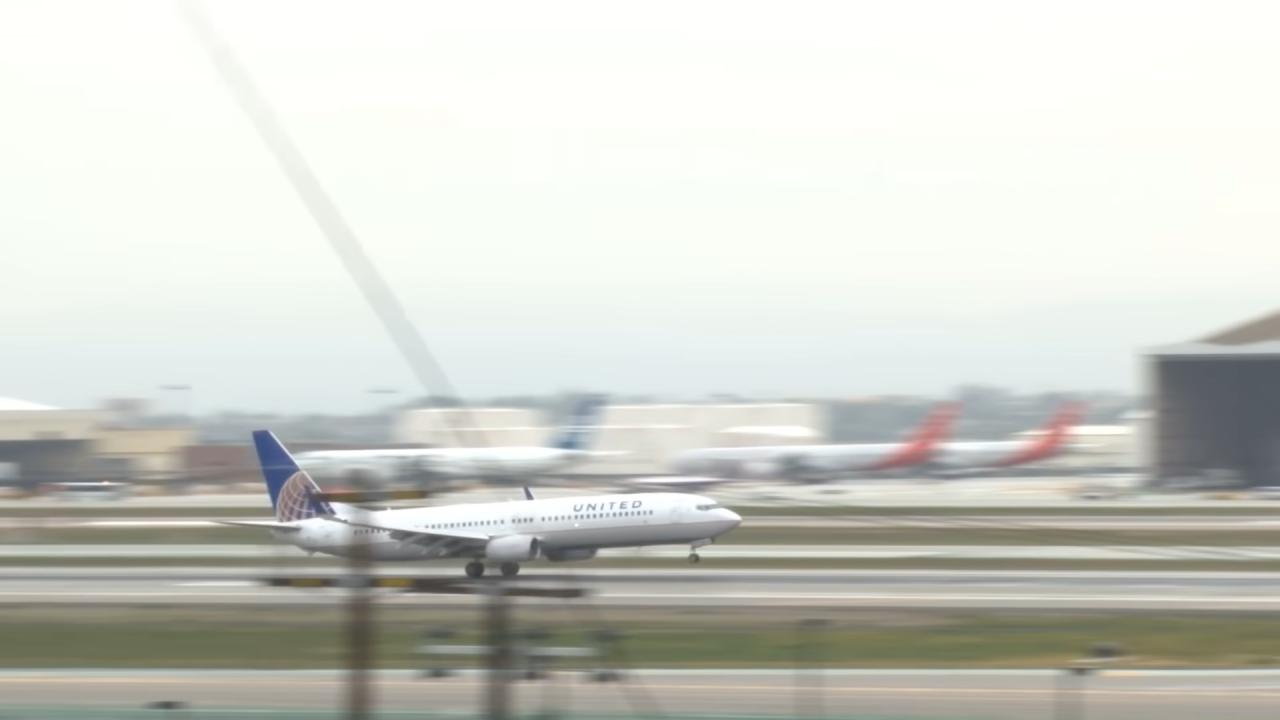Airplane: (222, 416, 759, 597)
